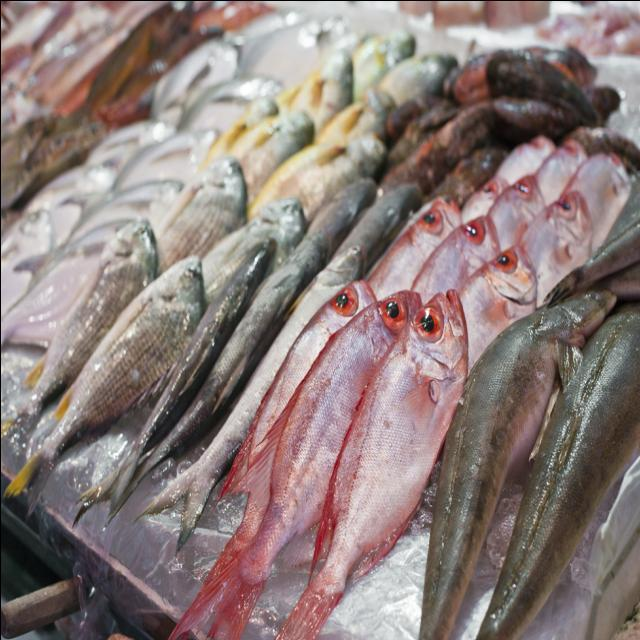fish: (140, 187, 415, 543), (166, 288, 420, 639), (416, 288, 610, 639), (273, 289, 466, 639), (473, 301, 639, 639), (128, 228, 327, 486), (6, 253, 203, 492), (110, 238, 273, 512), (15, 219, 156, 424), (246, 279, 373, 461), (516, 152, 629, 303), (0, 217, 127, 347), (156, 155, 245, 266), (273, 136, 384, 222), (365, 197, 460, 296), (457, 244, 534, 364), (460, 134, 553, 221), (409, 212, 498, 300), (237, 108, 312, 200), (114, 129, 215, 187), (485, 171, 543, 247), (534, 139, 585, 202)
